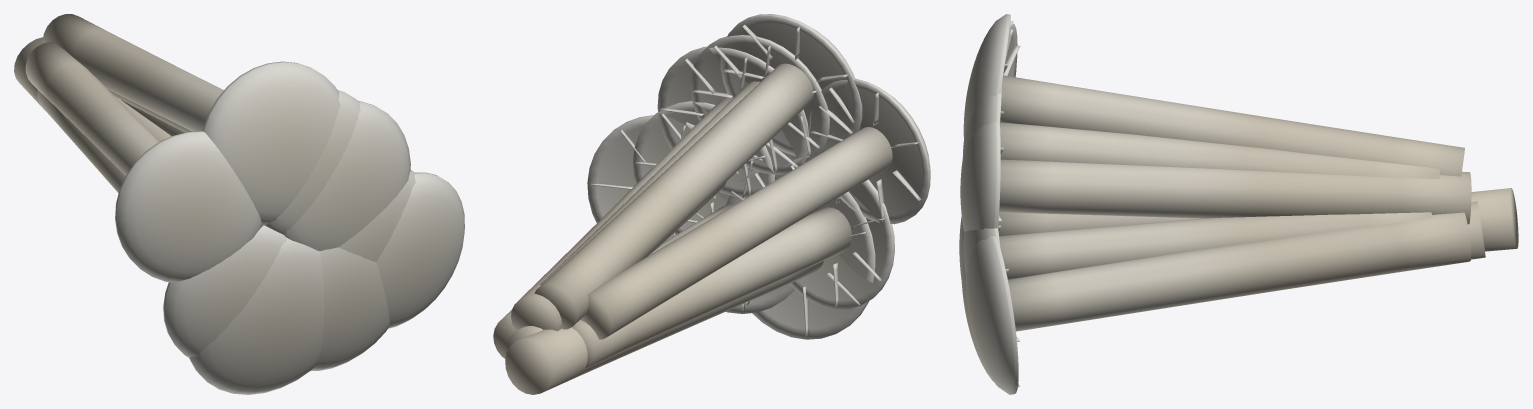
Rendered from flammulina-velutipes.glb.
3 views of the same model, side by side, from view 1: azimuth 30°, elevation 25°; view 2: azimuth 150°, elevation 25°; view 3: azimuth 270°, elevation 25° (orthographic). The views are drawn at different scales.
Visible parts, largest first — view 1: pileus_cap, stipe_stem; view 2: stipe_stem, pileus_cap, lamellae_gills; view 3: stipe_stem, pileus_cap.
Part boxes in pixels (x1=…): pileus_cap: x1=115, y1=61, x2=464, y2=394; stipe_stem: x1=14, y1=14, x2=223, y2=192; stipe_stem: x1=493, y1=63, x2=892, y2=394; pileus_cap: x1=587, y1=14, x2=930, y2=339; lamellae_gills: x1=590, y1=24, x2=921, y2=336; stipe_stem: x1=998, y1=75, x2=1518, y2=331; pileus_cap: x1=959, y1=14, x2=1018, y2=394.
Bounding box in the file's own units: 4.28 × 3.83 × 5.75.
